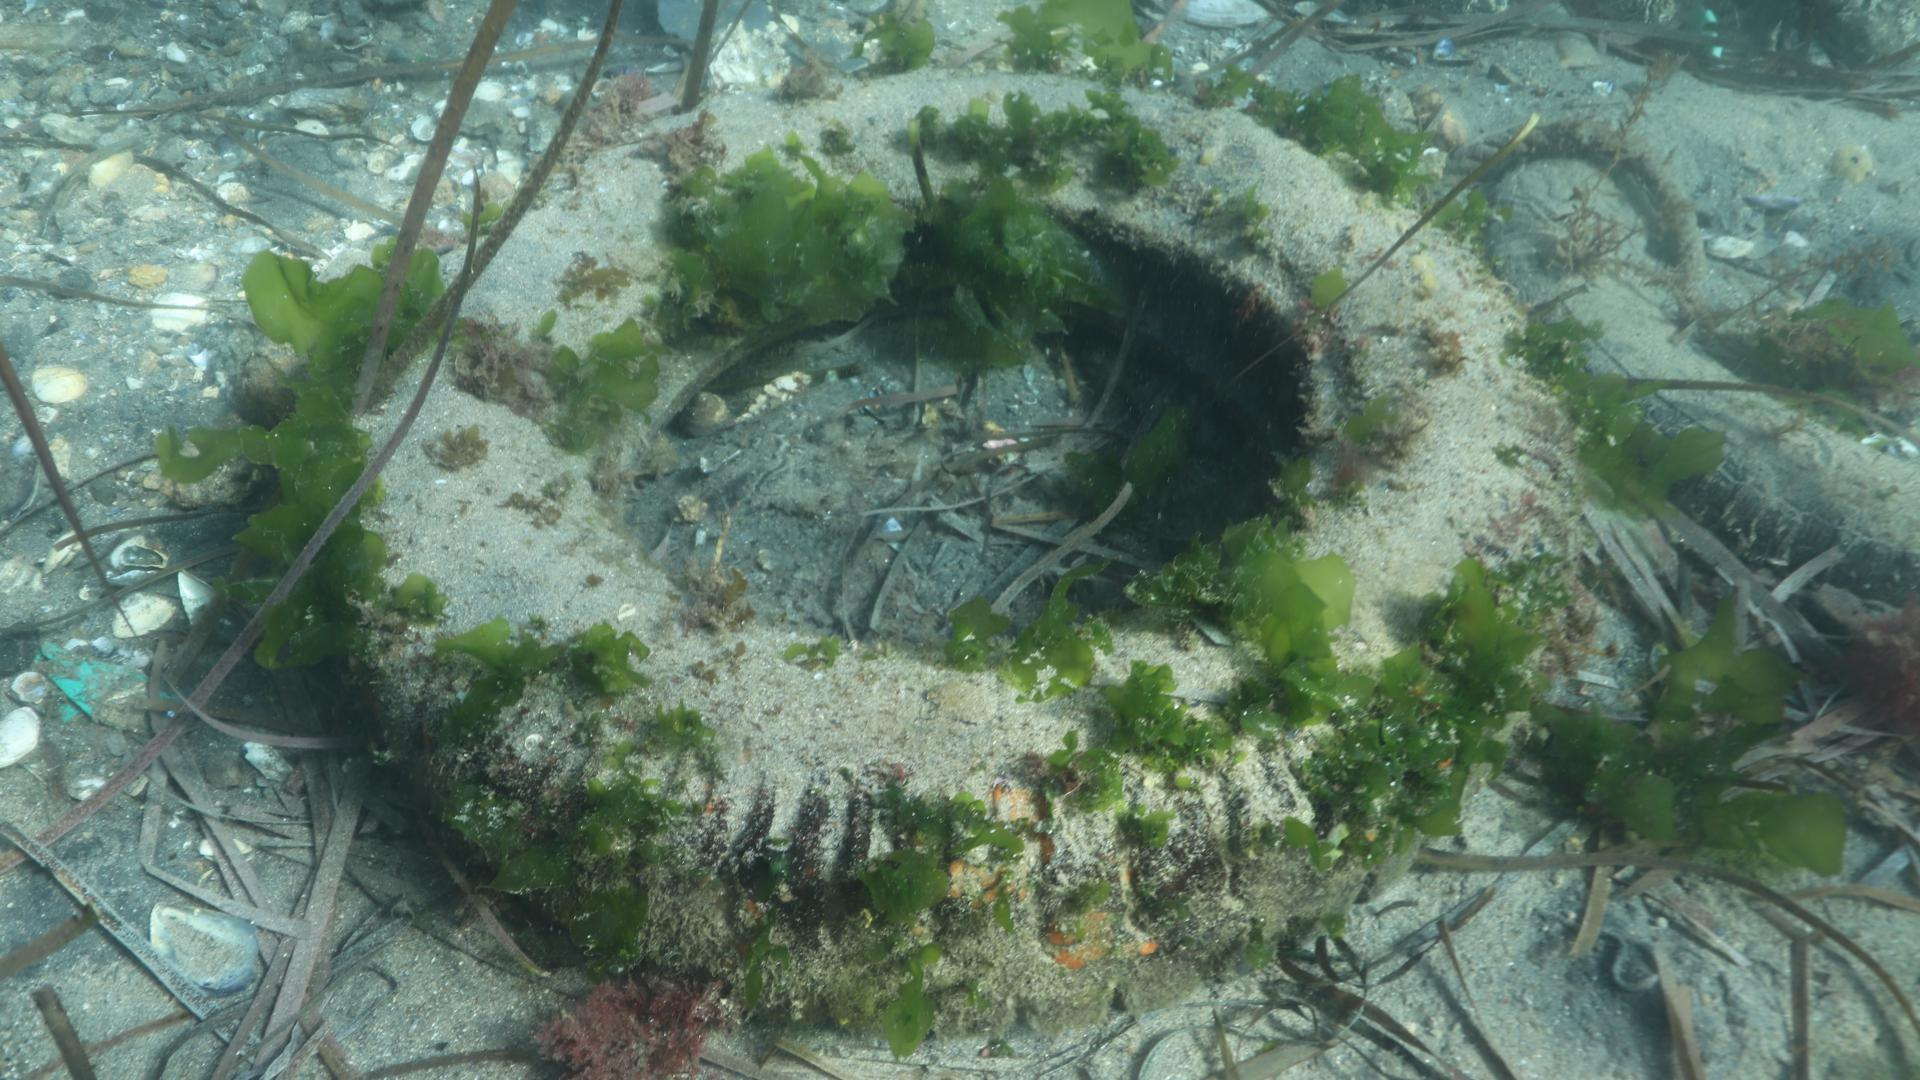rope: (1443, 115, 1712, 287)
tire: (349, 65, 1588, 1039)
